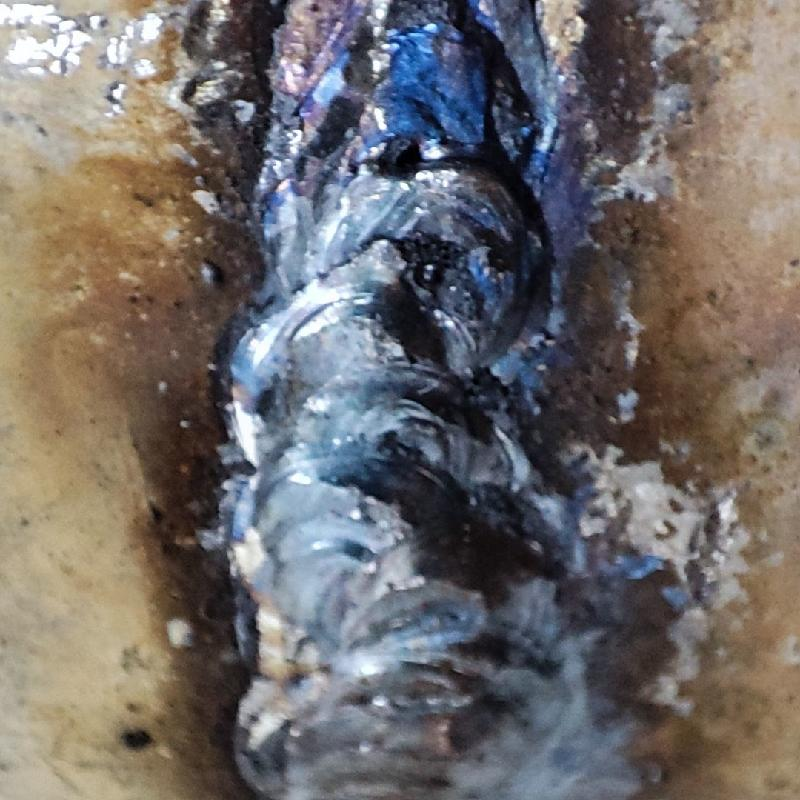Surface_pores: (368, 125, 441, 192), (403, 242, 462, 305), (475, 236, 520, 277)
